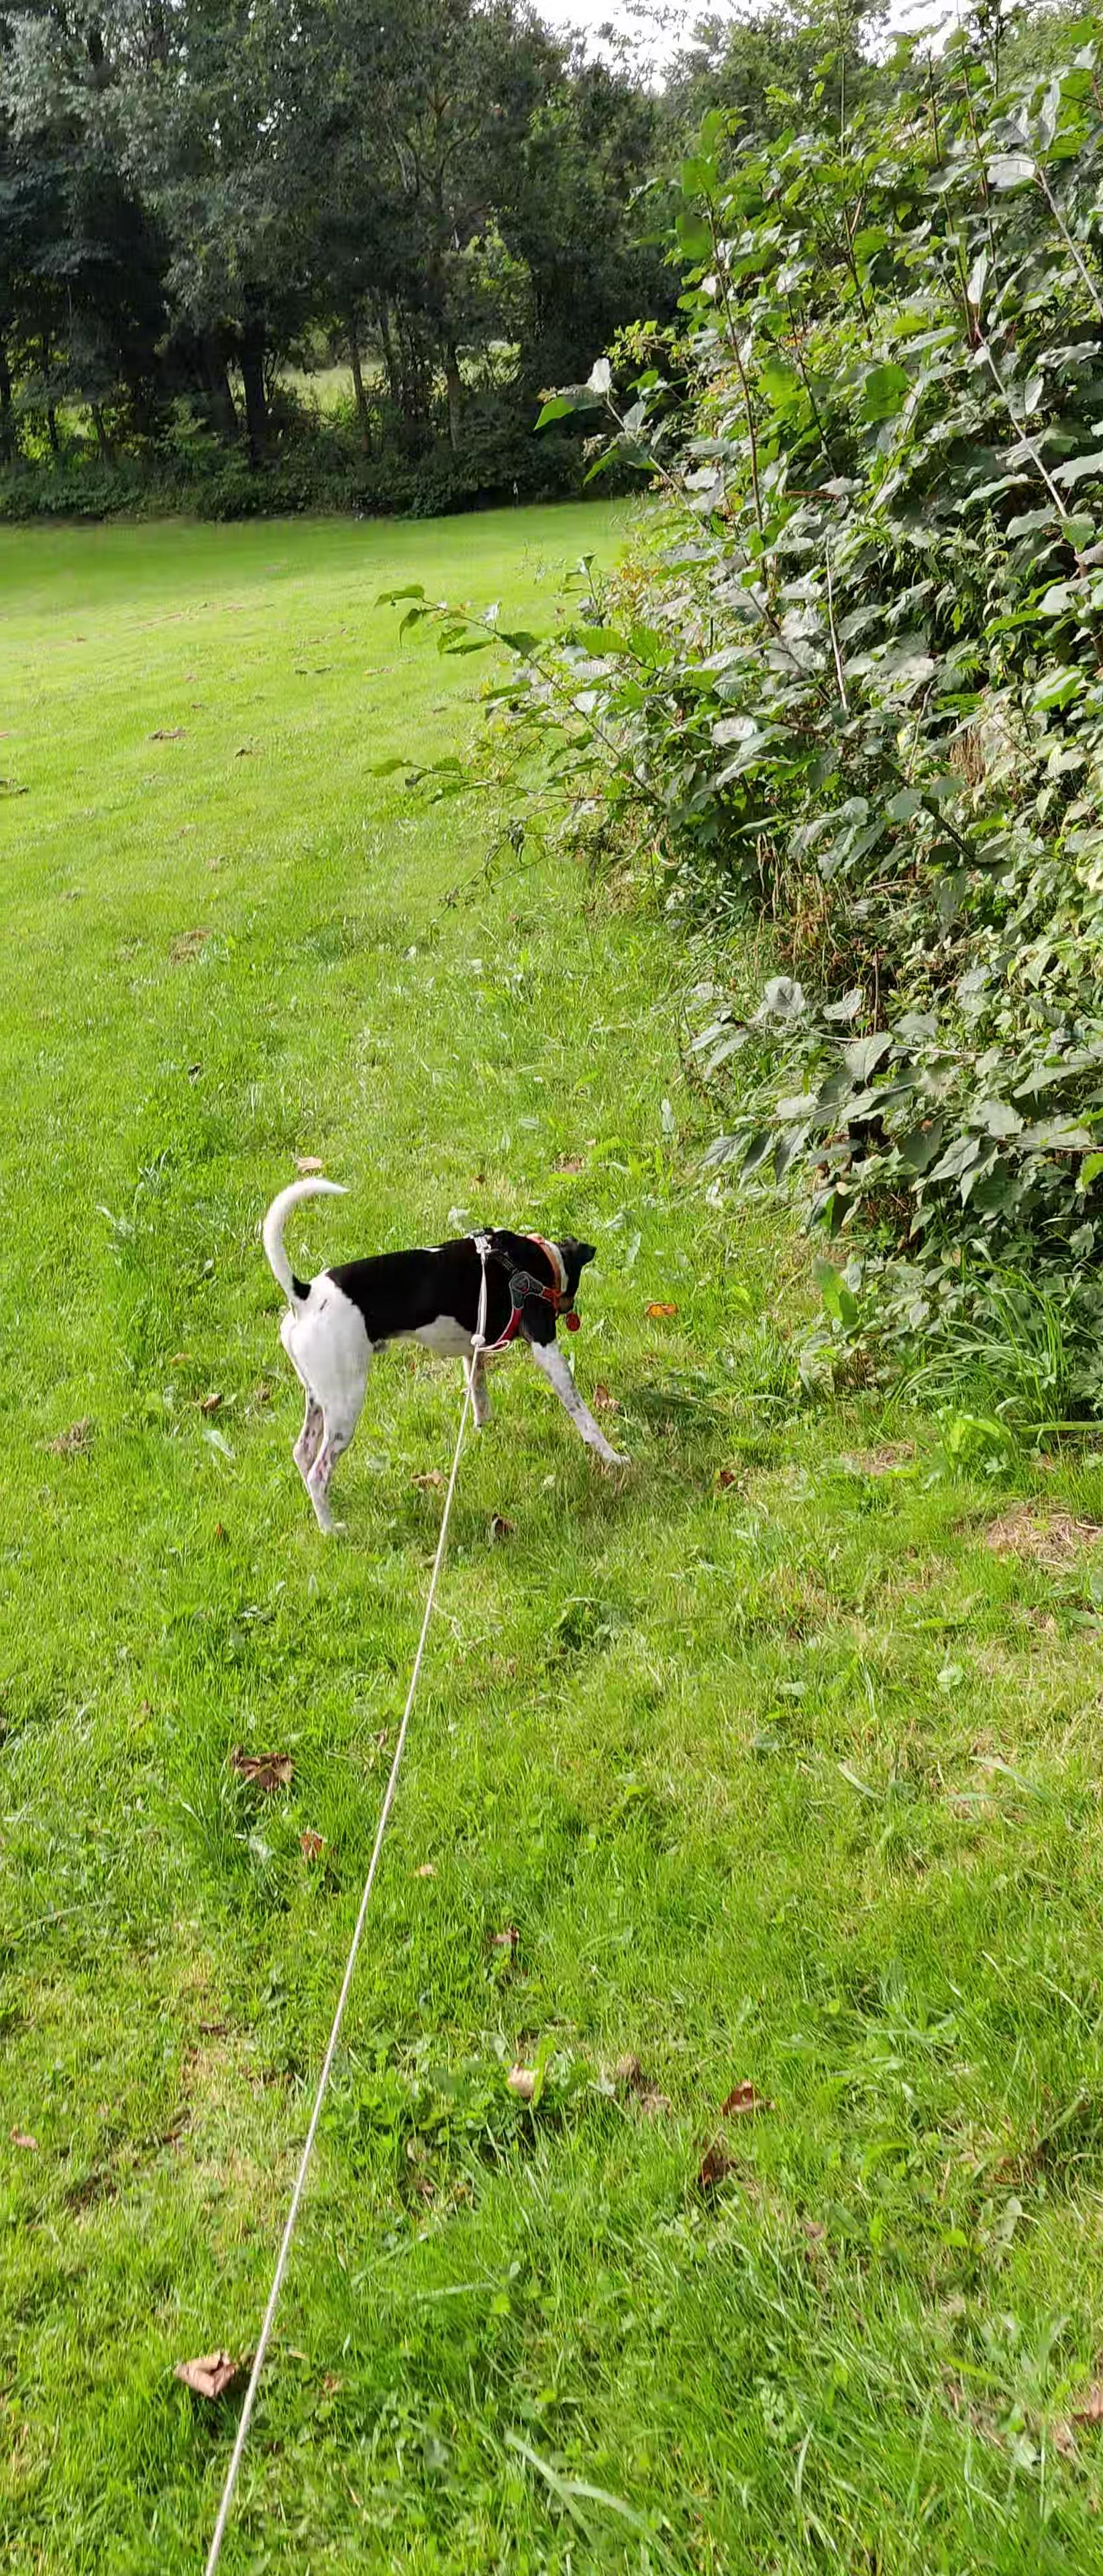Dog: (247, 1166, 643, 1544)
